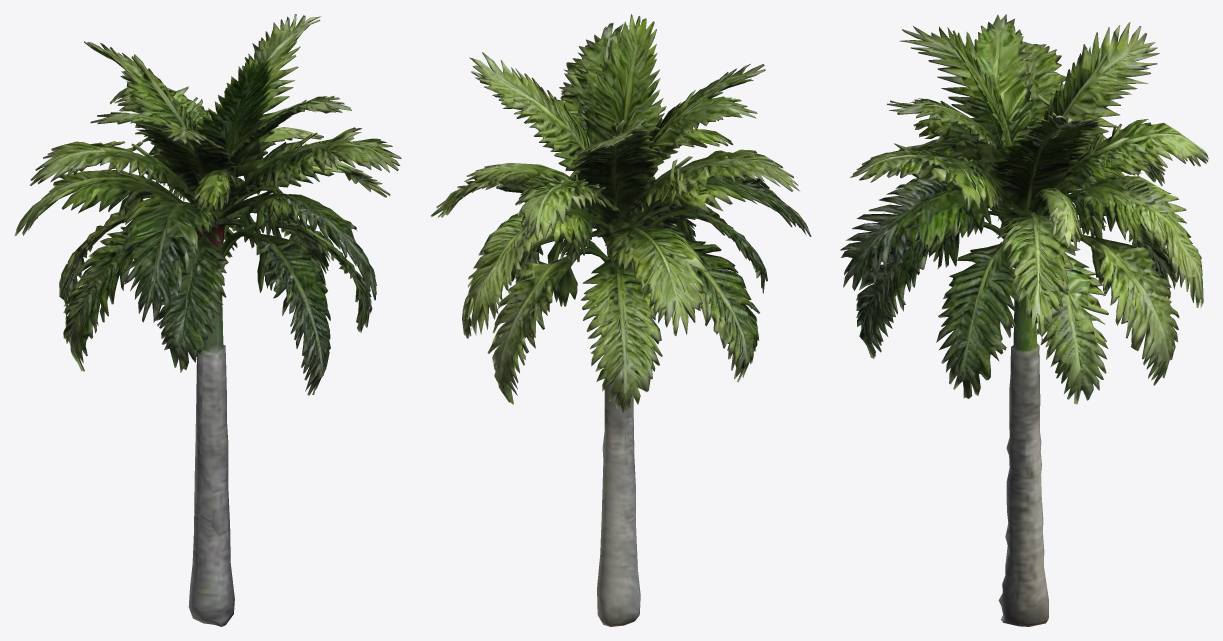
Rendered from royalpalm-near.glb.
3 renders of one model, left to right at view 1: azimuth 30°, elevation 25°; view 2: azimuth 150°, elevation 25°; view 3: azimuth 270°, elevation 25°, orthographic. The views are drawn at different scales.
Visible parts, largest first — view 1: tripo_node_2d15e3a9; view 2: tripo_node_2d15e3a9; view 3: tripo_node_2d15e3a9.
Boxes of the visible parts, <box> form: tripo_node_2d15e3a9: <box>14,14,401,626</box>; tripo_node_2d15e3a9: <box>430,14,811,626</box>; tripo_node_2d15e3a9: <box>840,14,1208,626</box>.
Bounding box in the file's own units: 9.89 × 15 × 8.49.
Materials: 1 (1 with a texture image).
